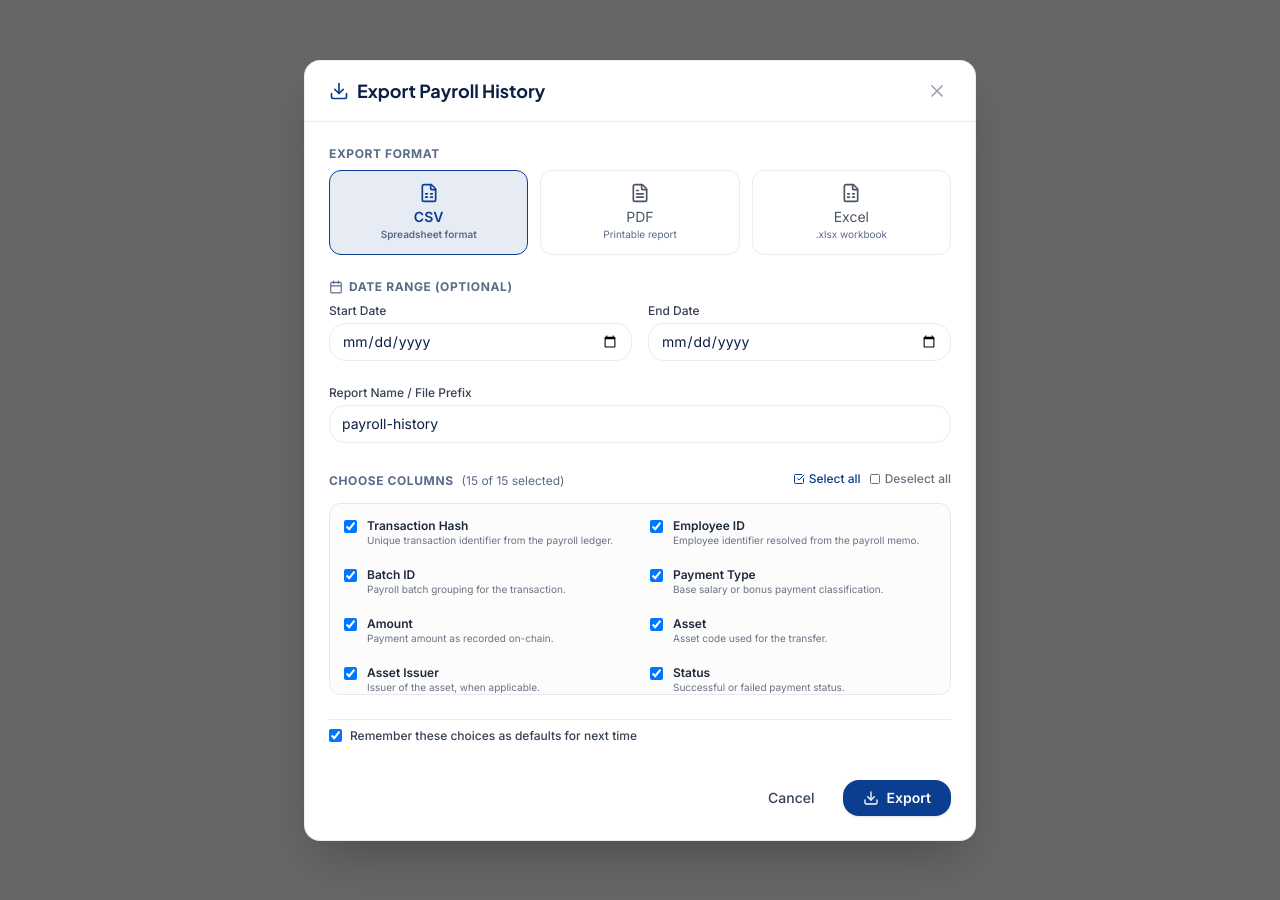
ExportDialog component › shows error and blocks export when all columns are deselected
Click the button "Deselect all": [910, 478] box [869, 470, 951, 486]
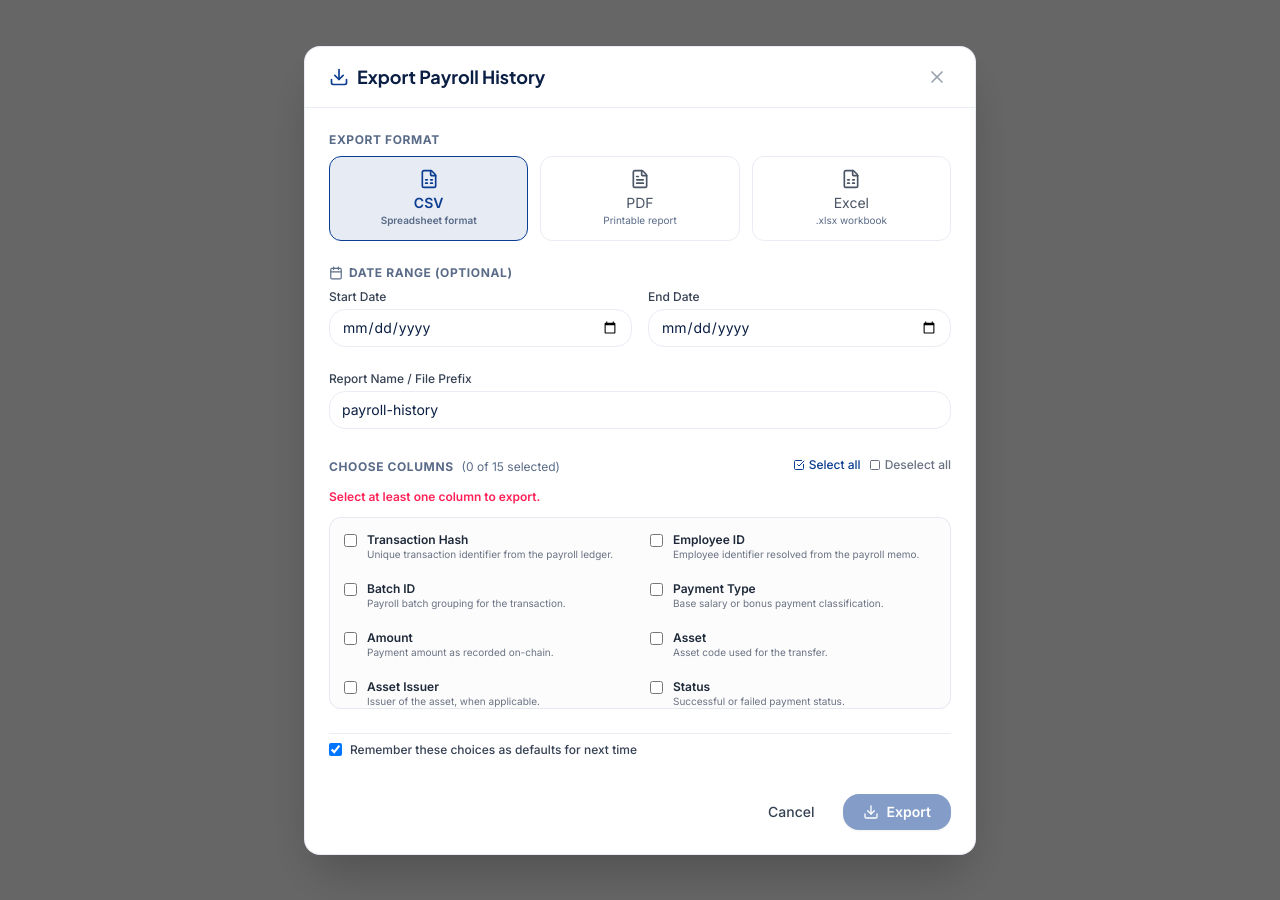
Check: the message shows "Select at least one column", box [329, 488, 540, 504]
Check: the button with test id "confirm-export-button" is disabled, box [842, 794, 951, 830]
